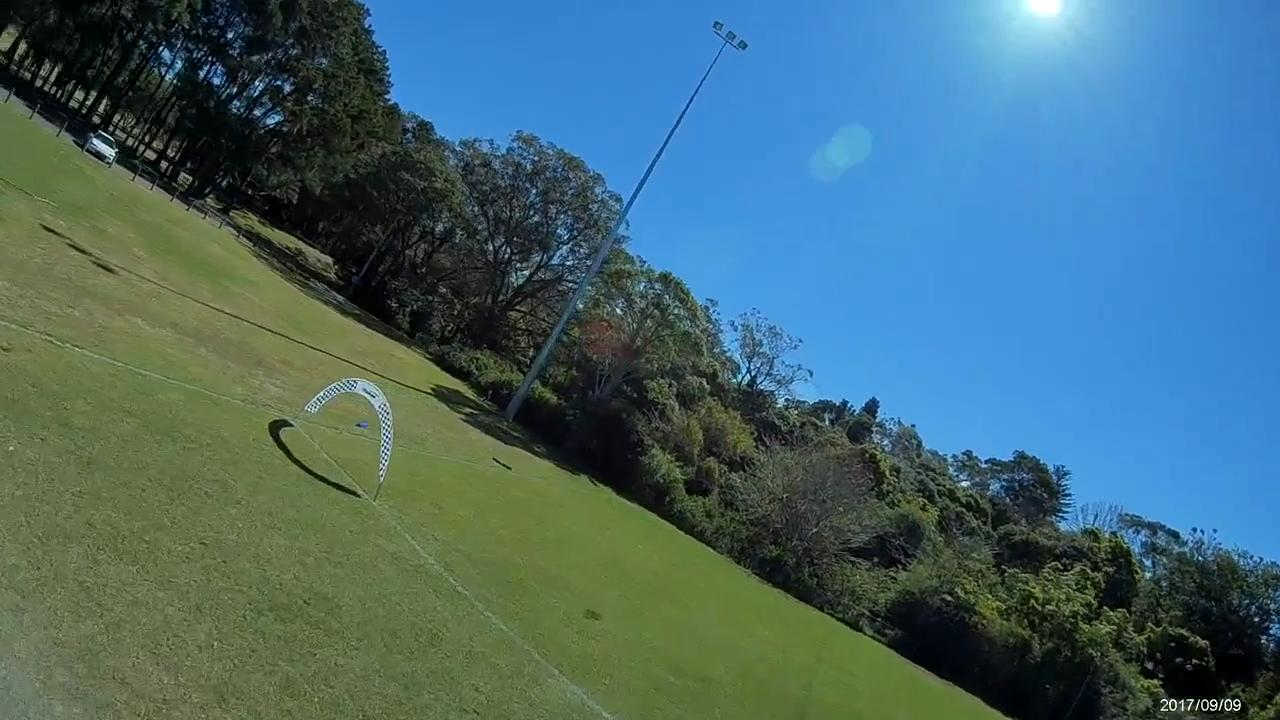gate: (304, 376, 395, 481)
